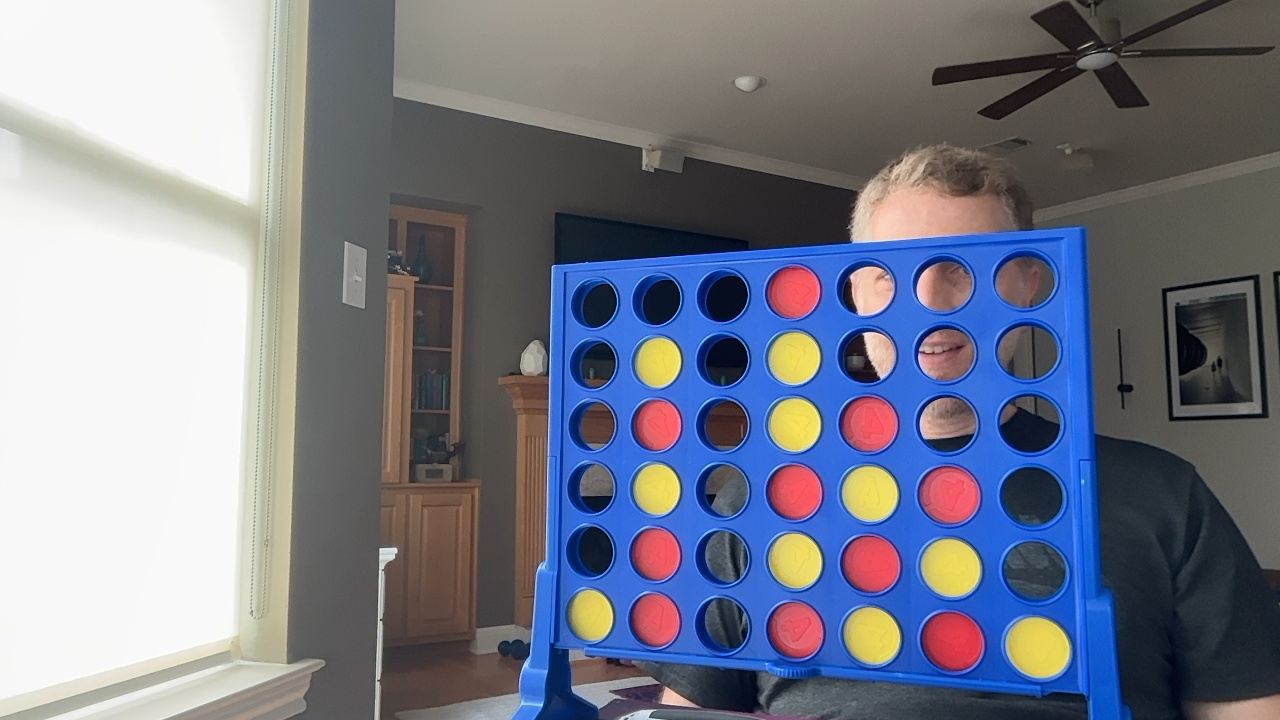red piece: (921, 611, 983, 671), (919, 465, 979, 523), (842, 535, 900, 592), (767, 601, 823, 658), (840, 396, 897, 451), (766, 464, 822, 519), (766, 265, 820, 318), (630, 593, 680, 647), (630, 527, 680, 580), (633, 399, 681, 450)
yellow piece: (1005, 616, 1071, 679), (920, 538, 981, 597), (843, 606, 901, 666), (841, 465, 898, 522), (768, 532, 822, 588), (768, 397, 821, 451), (767, 331, 820, 384), (632, 463, 680, 515), (634, 336, 681, 388), (567, 589, 613, 641)
